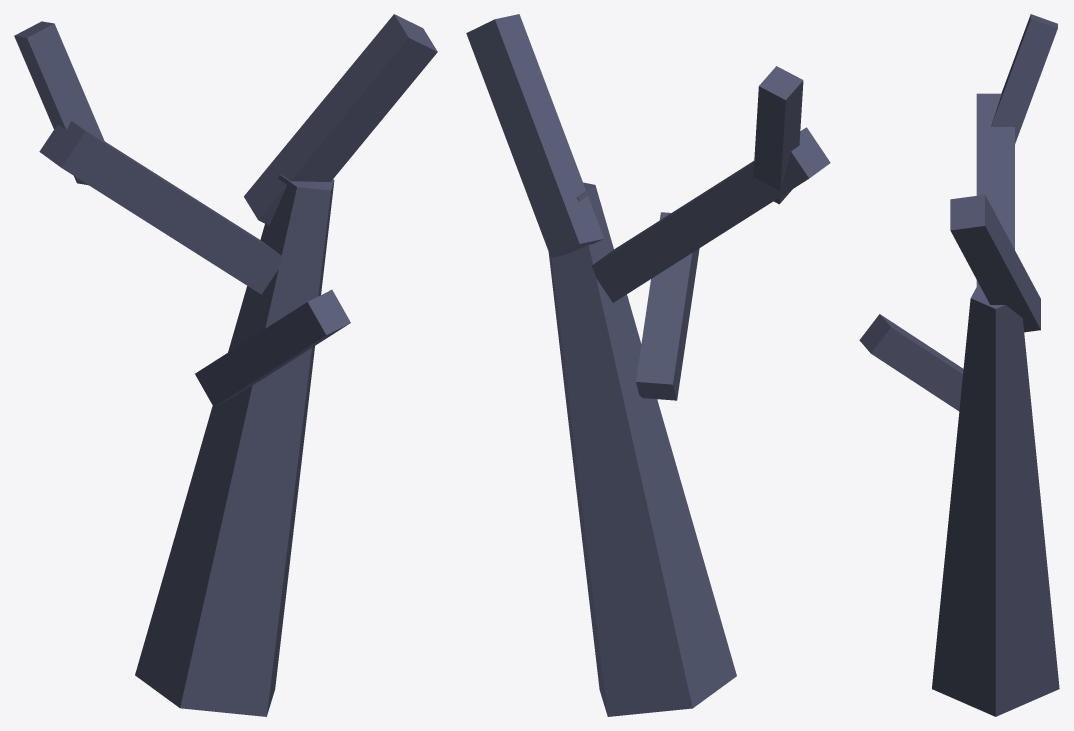
The model's file is tree.glb.
The picture shows the model from 3 angles, left to right: view 1: azimuth 30°, elevation 25°; view 2: azimuth 150°, elevation 25°; view 3: azimuth 270°, elevation 25°; orthographic projection. The views are drawn at different scales.
Visible parts, largest first — view 1: Trunk, B2, B1, B3, B4; view 2: Trunk, B2, B1, B3, B4; view 3: Trunk, B2, B3, B1, B4.
Part boxes in pixels (x1=…): Trunk: x1=135, y1=174, x2=334, y2=716; B2: x1=244, y1=14, x2=437, y2=225; B1: x1=39, y1=121, x2=282, y2=294; B3: x1=195, y1=289, x2=350, y2=406; B4: x1=14, y1=21, x2=105, y2=185; Trunk: x1=548, y1=182, x2=736, y2=716; B2: x1=466, y1=14, x2=604, y2=257; B1: x1=592, y1=127, x2=830, y2=302; B3: x1=636, y1=212, x2=699, y2=400; B4: x1=753, y1=66, x2=803, y2=204; Trunk: x1=932, y1=283, x2=1059, y2=716; B2: x1=950, y1=194, x2=1040, y2=332; B3: x1=859, y1=314, x2=963, y2=411; B1: x1=976, y1=93, x2=1014, y2=286; B4: x1=991, y1=14, x2=1057, y2=143.
Size of the model in its own units: 1.56 by 2.82 by 0.8345.
